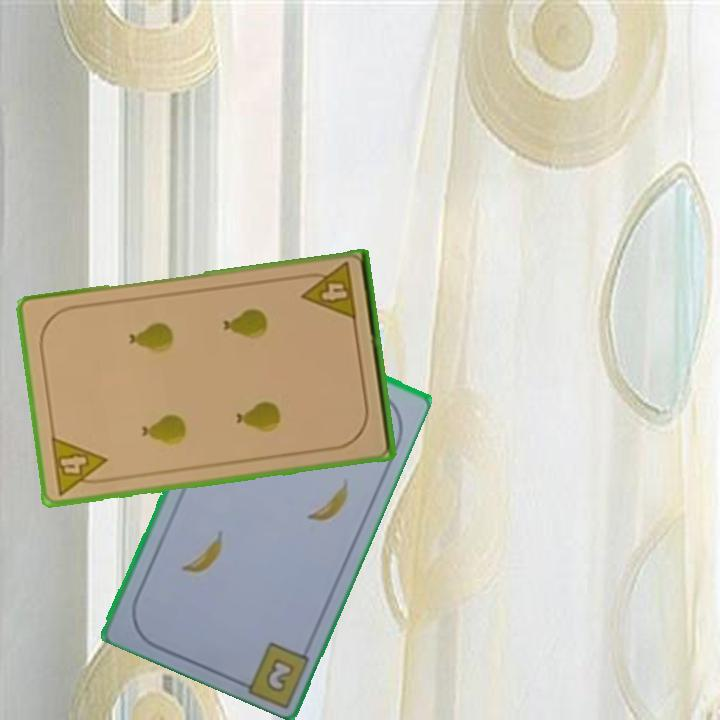2b: (261, 654, 297, 695)
4p: (47, 433, 112, 498), (296, 259, 360, 324)
